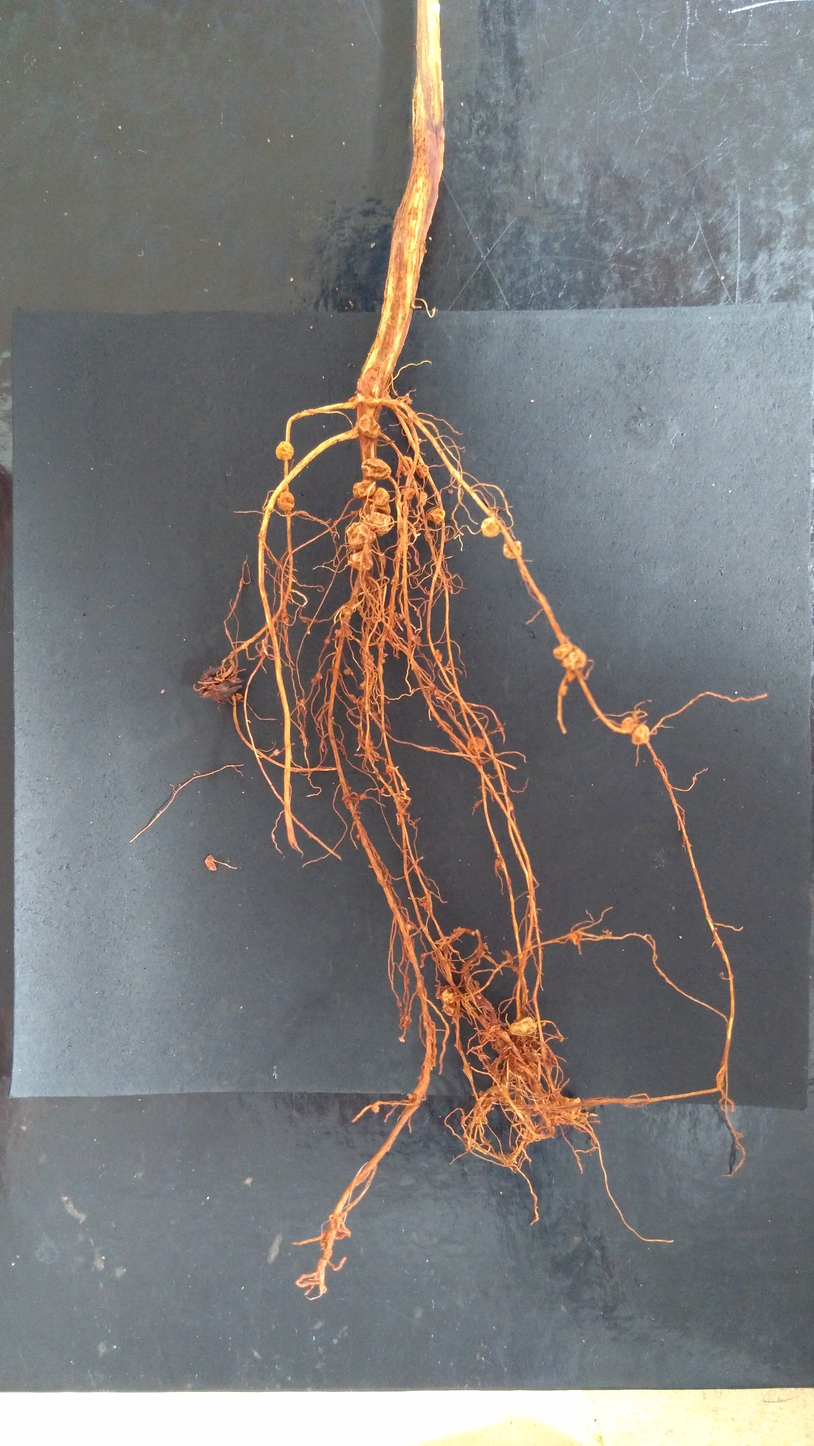nodule: (198, 663, 243, 703), (552, 643, 588, 671), (505, 1052, 540, 1080), (493, 1028, 523, 1059), (345, 522, 377, 550), (361, 510, 391, 537), (360, 457, 392, 480), (557, 1094, 583, 1121), (358, 413, 382, 439), (508, 1016, 538, 1036), (439, 985, 458, 1016), (352, 478, 376, 499), (349, 550, 373, 571), (480, 517, 503, 538), (489, 1083, 510, 1104), (472, 1095, 492, 1117), (275, 440, 295, 461), (370, 486, 390, 506), (276, 491, 295, 512), (631, 724, 650, 745), (466, 736, 487, 755), (502, 540, 523, 559), (425, 507, 446, 525), (398, 455, 415, 477), (369, 499, 391, 515), (521, 1124, 538, 1144), (620, 716, 636, 734), (463, 977, 480, 993), (414, 463, 429, 479), (334, 625, 352, 638), (568, 930, 582, 945), (426, 682, 440, 697), (401, 486, 415, 500), (399, 1014, 413, 1028), (494, 858, 506, 873), (393, 795, 406, 807), (348, 395, 359, 409), (419, 491, 428, 507), (559, 684, 569, 698), (410, 633, 421, 645), (341, 607, 352, 618), (435, 648, 443, 663), (395, 812, 403, 826), (403, 921, 413, 932), (423, 532, 435, 541), (402, 395, 412, 405), (370, 710, 379, 721), (342, 667, 351, 676), (235, 692, 244, 701), (385, 766, 394, 775), (371, 1104, 380, 1113), (315, 672, 323, 681), (359, 680, 367, 689), (358, 793, 367, 801), (272, 748, 280, 756), (407, 1092, 414, 1101), (283, 616, 290, 625), (540, 1021, 547, 1028), (281, 611, 288, 618), (324, 637, 330, 644), (402, 618, 408, 625), (356, 833, 362, 840), (299, 698, 305, 704), (380, 657, 385, 664), (417, 437, 422, 443)
